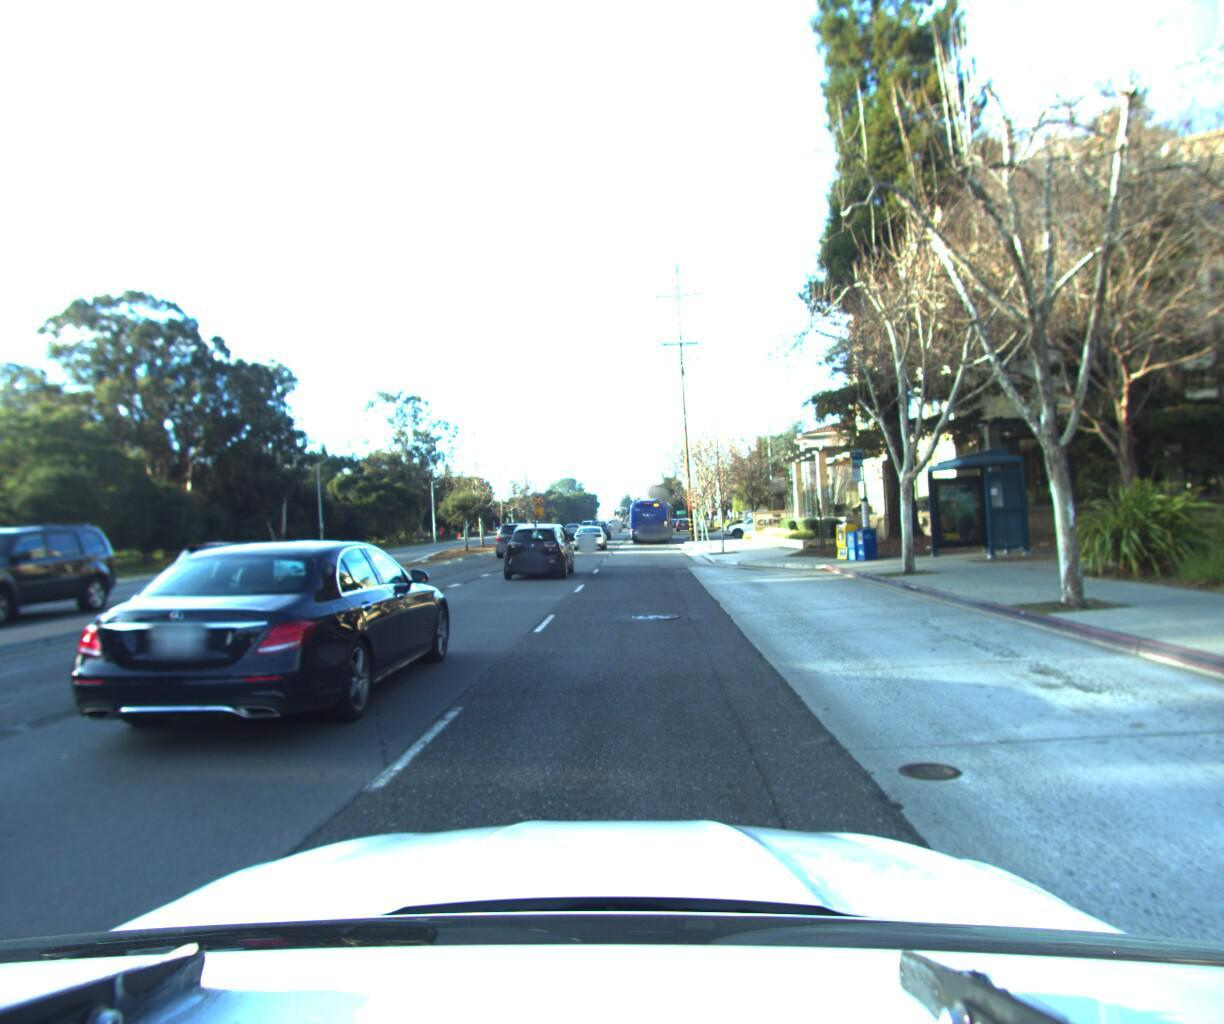bus: (627, 488, 673, 545)
car: (48, 529, 462, 767), (137, 528, 333, 636), (500, 518, 578, 583), (490, 519, 545, 558), (723, 510, 786, 536), (570, 517, 607, 549), (590, 514, 616, 535), (564, 520, 584, 538)
